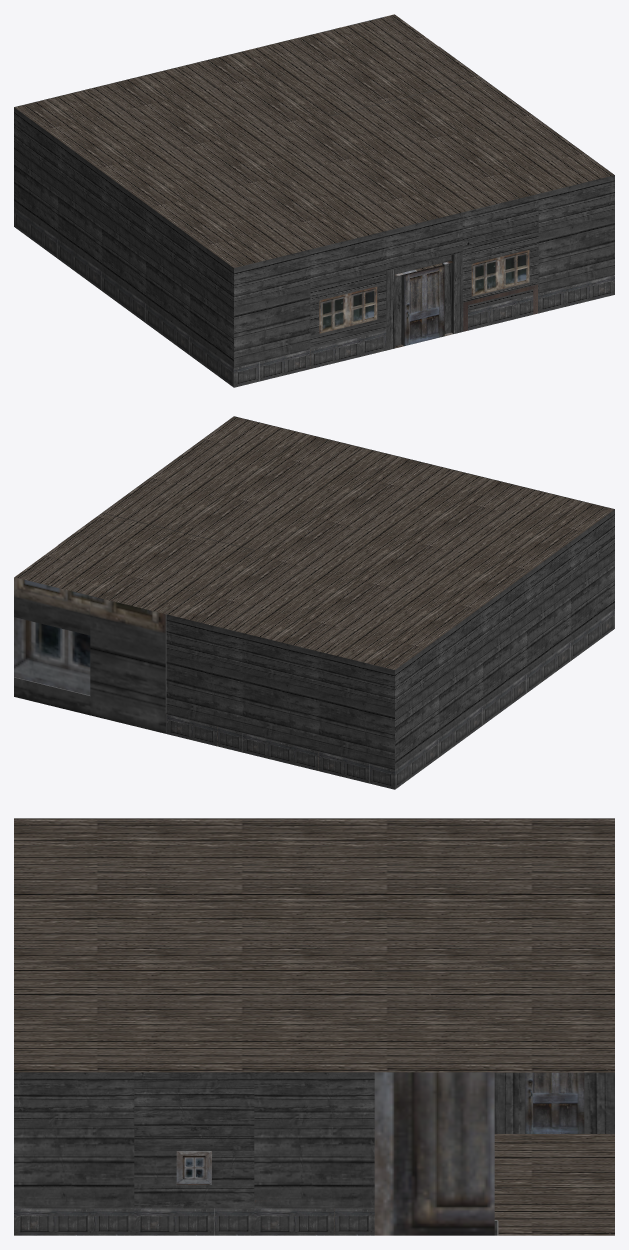
The model's file is cabin.fbx.
3 views of the same model, one above another, from view 1: azimuth 30°, elevation 25°; view 2: azimuth 150°, elevation 25°; view 3: azimuth 270°, elevation 25° (orthographic). The views are drawn at different scales.
Visible parts, largest first — view 1: ceiling, walls, table; view 2: ceiling, walls; view 3: ceiling, walls, floor.
Part boxes in pixels (bbox=[...]): ceiling: bbox=[14, 14, 613, 267]; walls: bbox=[14, 14, 614, 387]; table: bbox=[463, 284, 537, 331]; ceiling: bbox=[15, 416, 614, 669]; walls: bbox=[14, 416, 614, 789]; ceiling: bbox=[14, 818, 614, 1072]; walls: bbox=[14, 818, 614, 1235]; floor: bbox=[334, 1134, 614, 1235].
Size of the model in its own units: 1000 by 305 by 1000.
